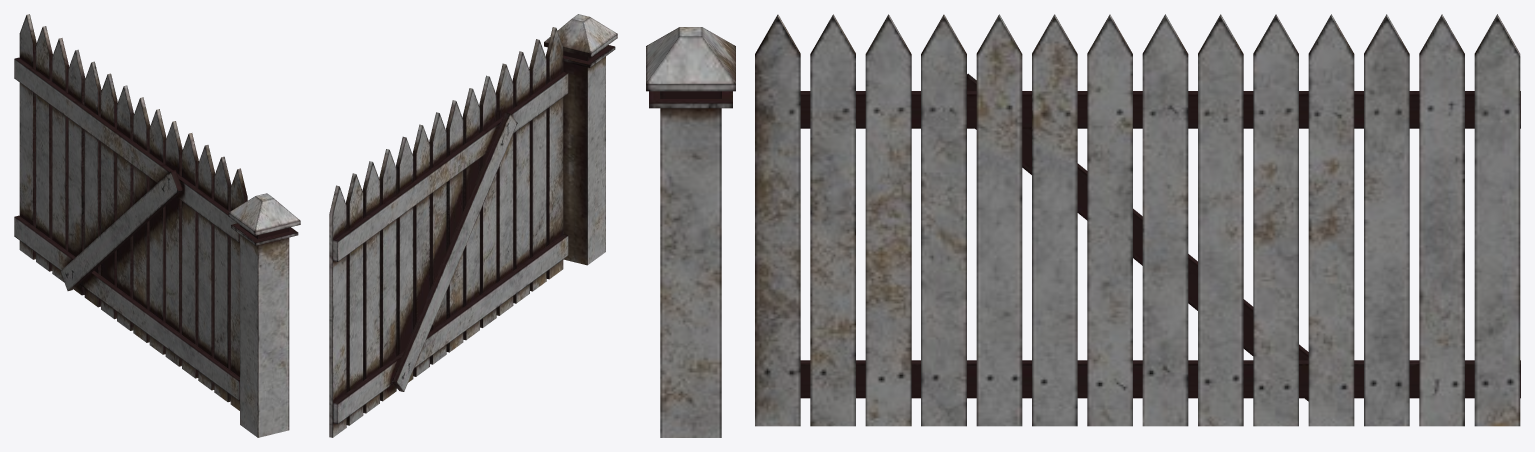
The model's file is fence.glb.
3 renders of one model, left to right at view 1: azimuth 30°, elevation 25°; view 2: azimuth 150°, elevation 25°; view 3: azimuth 270°, elevation 25°, orthographic. The views are drawn at different scales.
Visible parts, largest first — view 1: Object_2; view 2: Object_2; view 3: Object_2.
Part boxes in pixels (bbox=[...]): Object_2: bbox=[14, 14, 300, 437]; Object_2: bbox=[329, 14, 617, 437]; Object_2: bbox=[646, 14, 1520, 437].
Size of the model in its own units: 29.2 by 147 by 285.
Materials: 1 (1 with a texture image).
